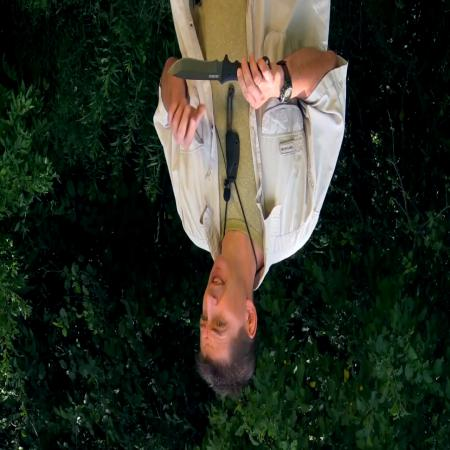long weapon: (166, 49, 272, 112)
